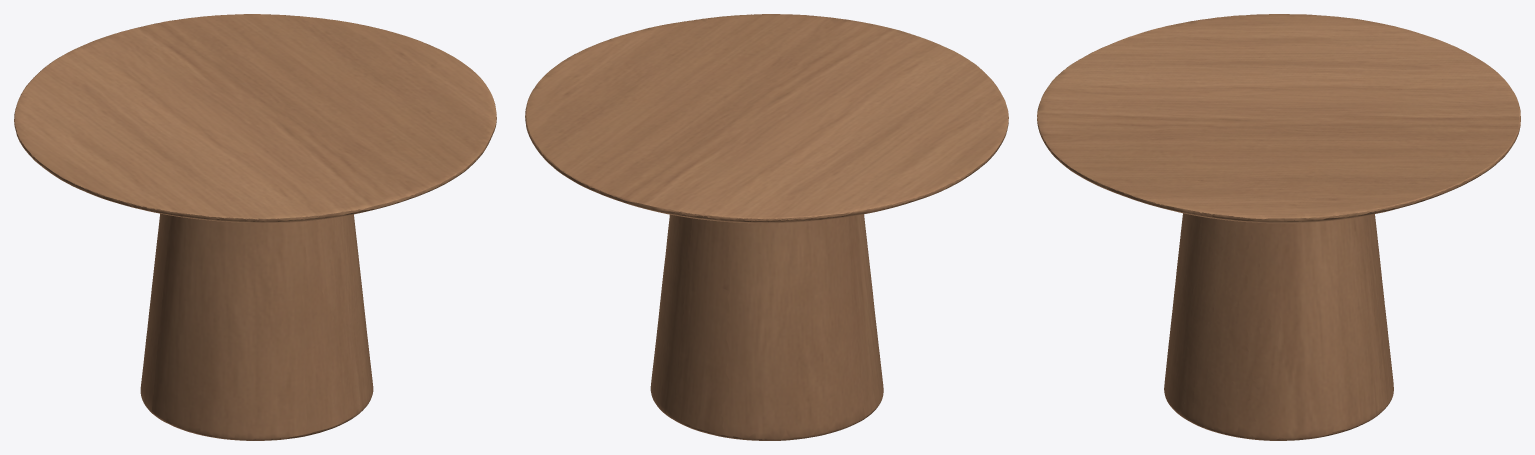
File: item_1ab98cc4.glb
The picture shows the model from 3 angles, left to right: view 1: azimuth 30°, elevation 25°; view 2: azimuth 150°, elevation 25°; view 3: azimuth 270°, elevation 25°; orthographic projection.
Parts seen in each view (by area): view 1: world; view 2: world; view 3: world.
Part boxes in pixels (bbox=[...]): world: bbox=[14, 14, 496, 440]; world: bbox=[525, 14, 1008, 440]; world: bbox=[1037, 14, 1520, 440].
Size of the model in its own units: 1.3 by 0.8226 by 1.3.
Materials: 1 (1 with a texture image).
